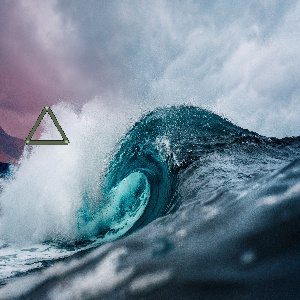triangle: (19, 102, 74, 154)
